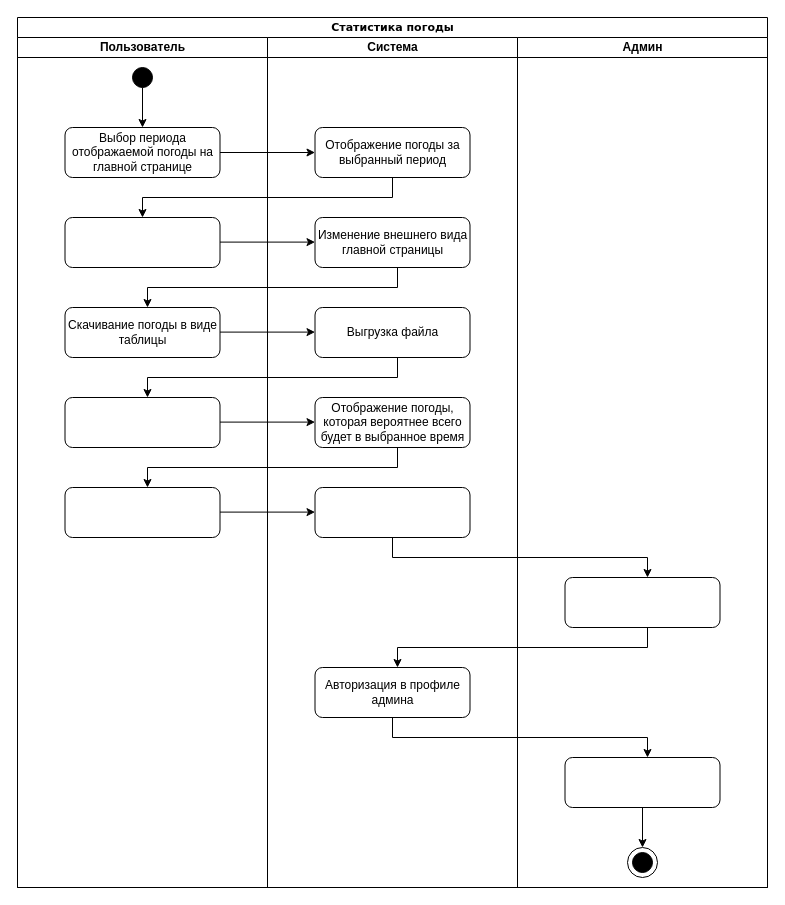
This 785x905 diagram has some shape labels left out. The centre of each missing label's shape, as x and y in pixels:
Авторизация в системе: point 642,602
Ввод показателей погоды (температура, влажность, скорость ветра): point 142,512
Выбор внешнего вида главной страницы: point 142,242
Вывод ближайших дат с данными показателями погоды: point 392,512
Добавление плана на выбранный день и время: point 142,422
Настройка данных в базах данных: point 642,782
